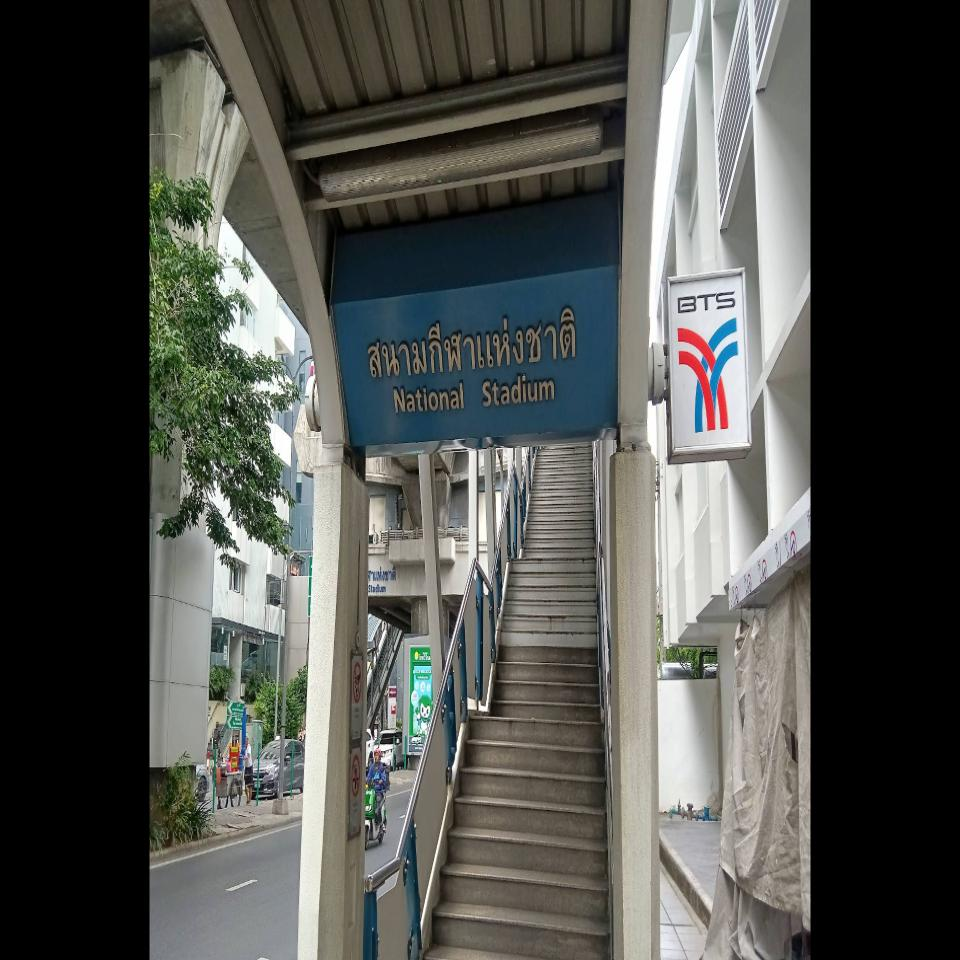National Stadium: (332, 264, 752, 454), (331, 264, 620, 443)
